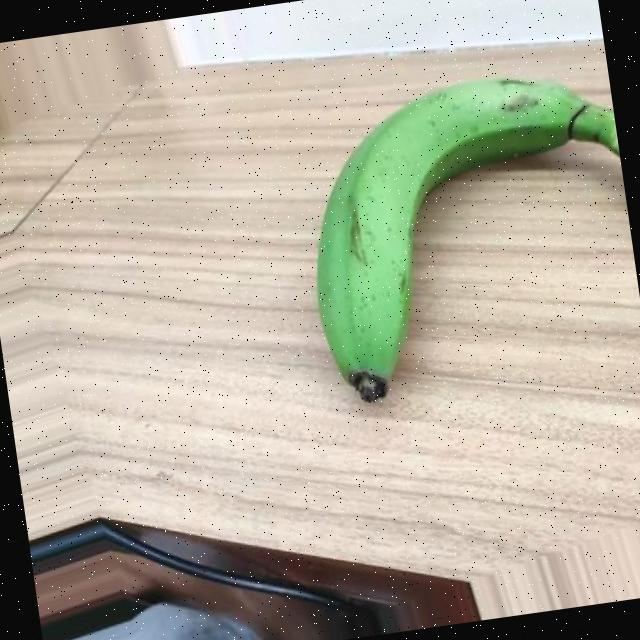Unripe: (289, 55, 640, 408)
